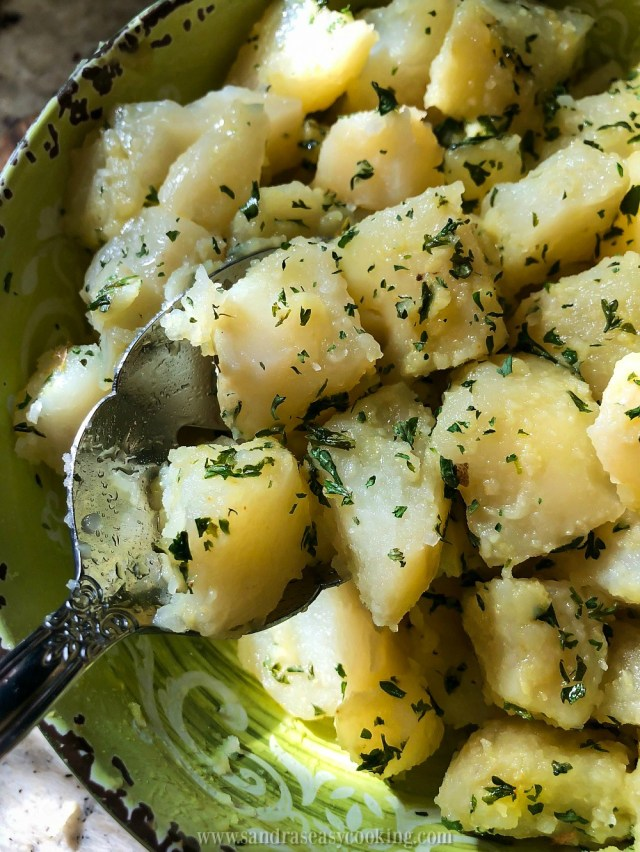boiled potatoes: (128, 1, 638, 831)
